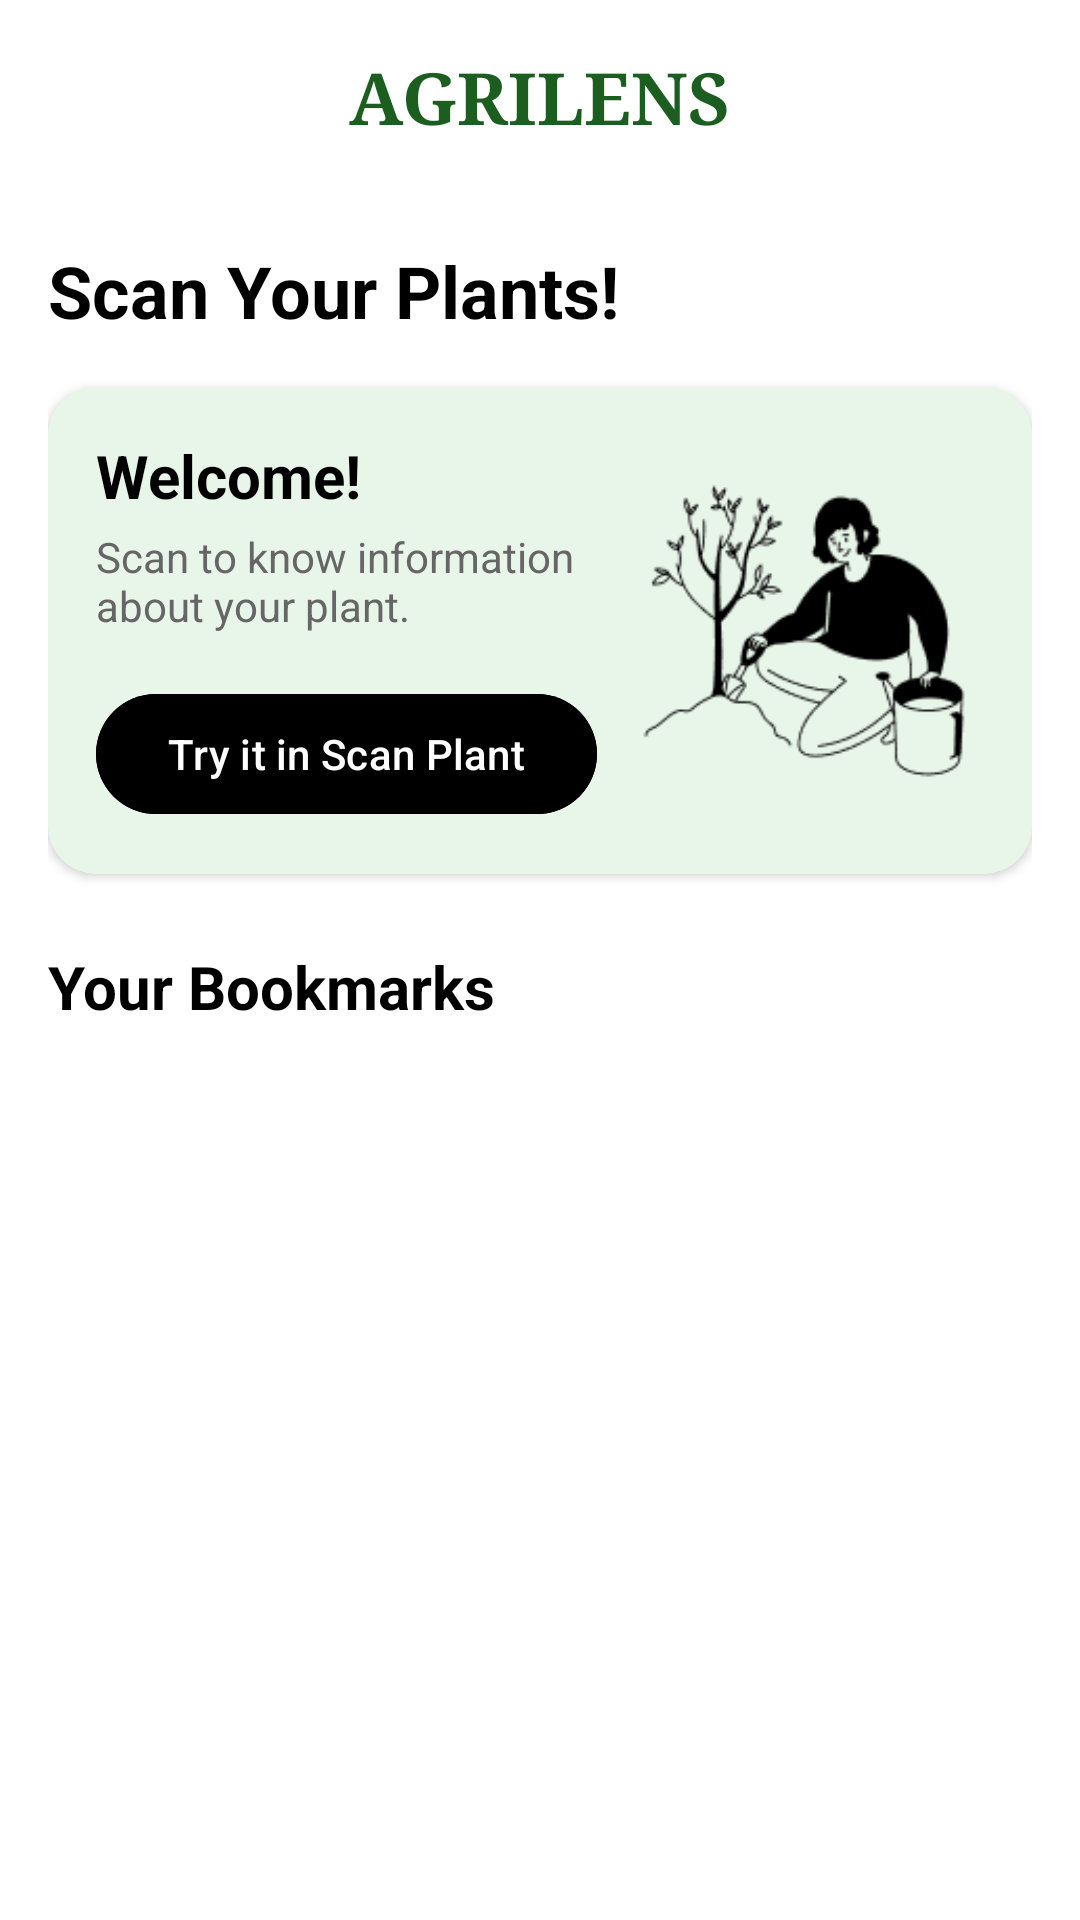

Point at icon controls on the screen. Image size 1080px x 1920px, points as (x=x, y=y).
Gardening Illustration: (x=804, y=631)
